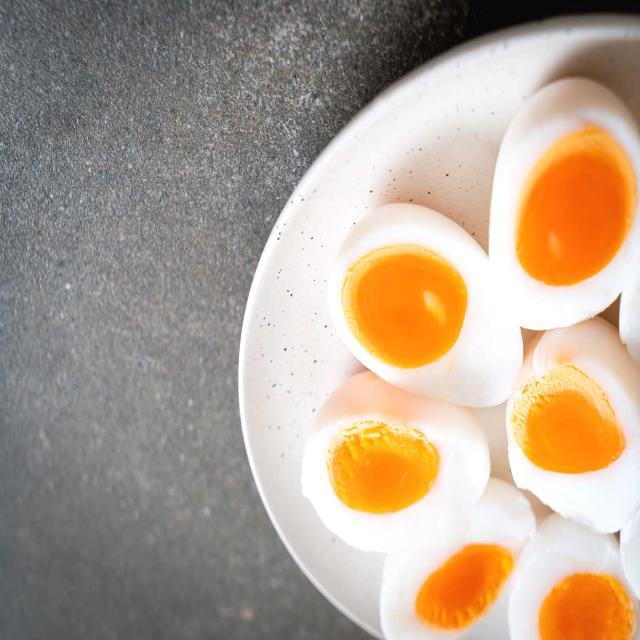telur rebus: (328, 200, 525, 408), (488, 77, 640, 329), (302, 367, 489, 551), (505, 317, 640, 529)
